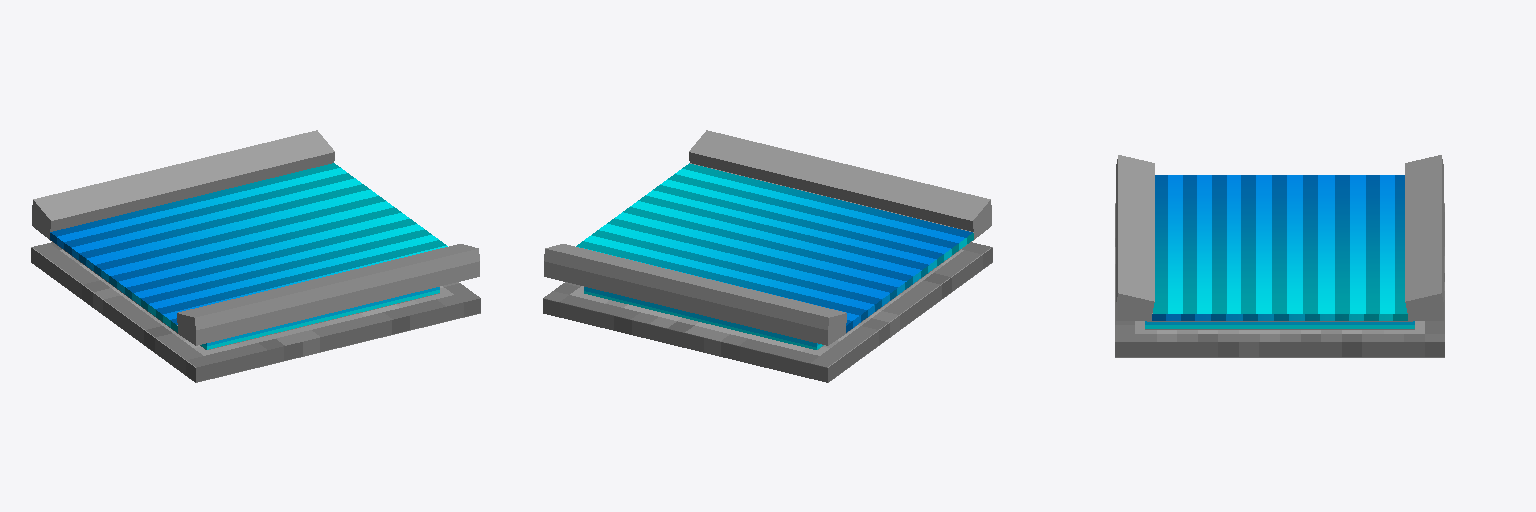
3 renders of one model, left to right at view 1: azimuth 30°, elevation 25°; view 2: azimuth 150°, elevation 25°; view 3: azimuth 270°, elevation 25°, orthographic.
Bounding box in the file's own units: 1 × 0.2146 × 1.
1 materials, 1 textured.